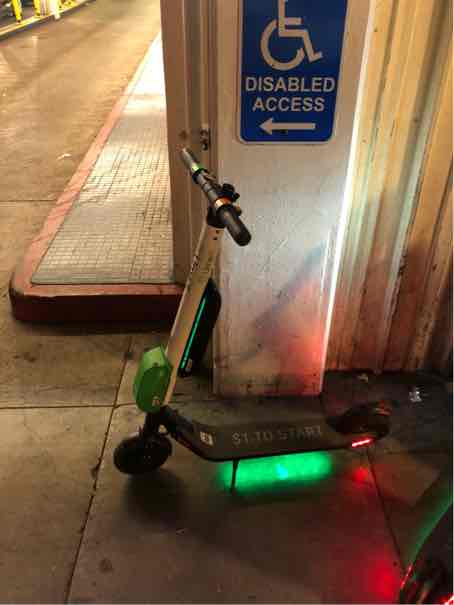scooter: (87, 154, 415, 509)
